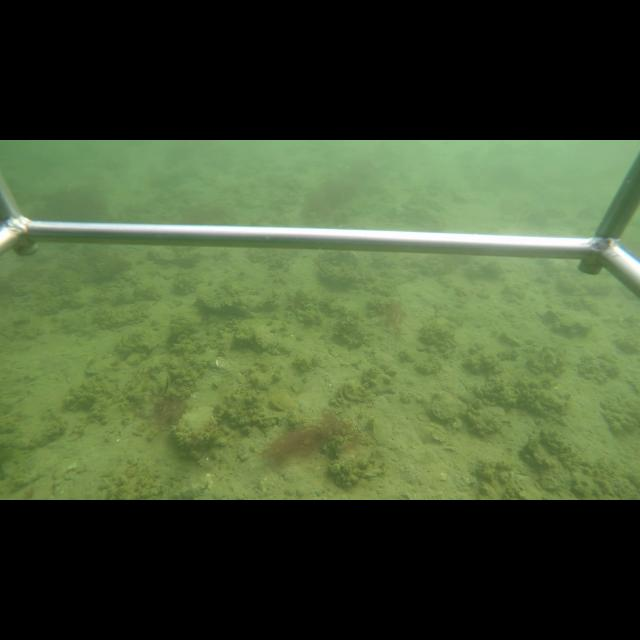Oyster-Closed: (193, 276, 286, 316)
Oyster-Open: (335, 378, 374, 406), (155, 366, 172, 399)
